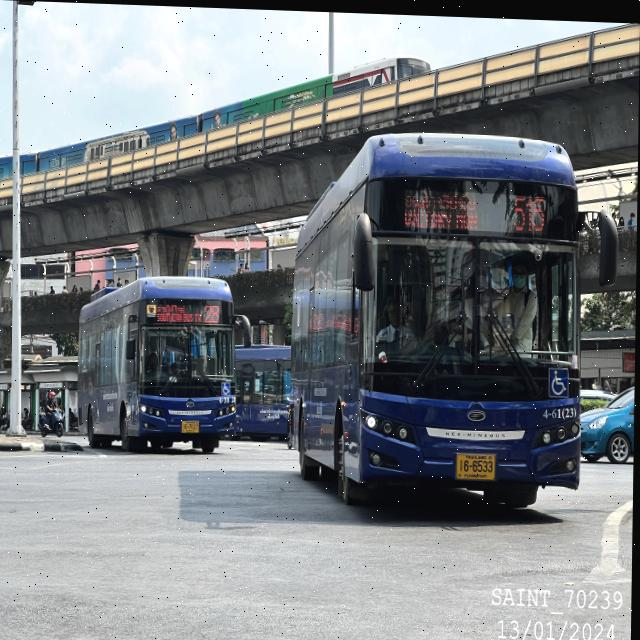Bus-Line-Number: (511, 187, 549, 233), (204, 301, 223, 323)
Destination-Sign-Normal: (401, 182, 481, 232), (157, 300, 204, 324)
TSB-Bus: (290, 125, 586, 508), (77, 271, 242, 453), (234, 343, 293, 439)
